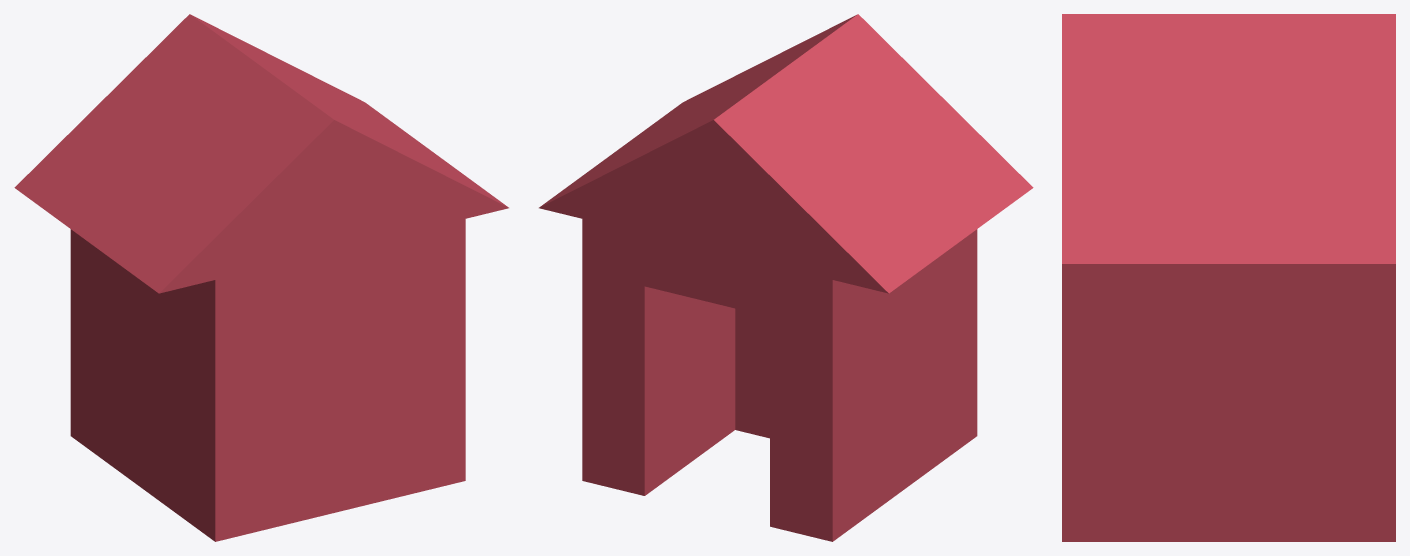
Rendered from housemodel.glb.
3 views of the same model, side by side, from view 1: azimuth 30°, elevation 25°; view 2: azimuth 150°, elevation 25°; view 3: azimuth 270°, elevation 25° (orthographic). The views are drawn at different scales.
Visible parts, largest first — view 1: Mesh_Mesh_head_geo.001_lambert2SG.001; view 2: Mesh_Mesh_head_geo.001_lambert2SG.001; view 3: Mesh_Mesh_head_geo.001_lambert2SG.001.
Boxes of the visible parts, x1=… form: Mesh_Mesh_head_geo.001_lambert2SG.001: x1=14, y1=14, x2=508, y2=541; Mesh_Mesh_head_geo.001_lambert2SG.001: x1=539, y1=14, x2=1033, y2=541; Mesh_Mesh_head_geo.001_lambert2SG.001: x1=1062, y1=14, x2=1395, y2=541.
Size of the model in its own units: 0.028 by 0.03 by 0.02.
